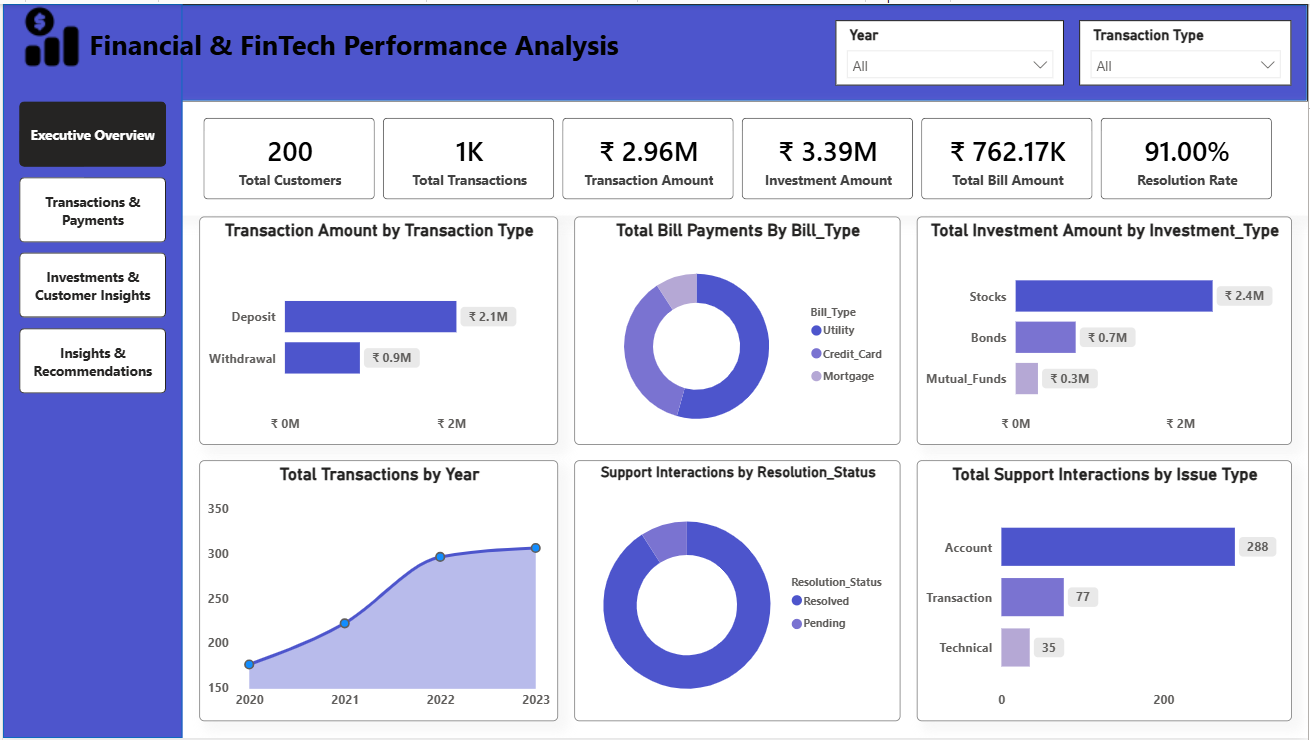

Layout of this report page (visuals, bound fields, positions):
{"tool":"powerbi","page":{"name":"Executive Overview","canvas":[1280,720],"ordinal":0},"visuals":[{"type":"shape","box":[0,0,1280,96],"z":1000},{"type":"cardVisual","fields":{"Data":["Measure_Table.Total Customers","Measure_Table.Total Transactions","Measure_Table.Total Transaction Amount","Measure_Table.Total Investment Amount","Measure_Table.Total Bill Amount","Measure_Table.Resolution Rate"]},"box":[160,96,1120,112],"z":2000},{"type":"barChart","title":"Transaction Amount by Transaction Type","fields":{"Y":["Measure_Table.Total Transaction Amount"],"Category":["fact_Transaction_ table.transaction_type"]},"box":[192,208,352,224],"z":3000},{"type":"areaChart","fields":{"Category":["Dim_Date.Year"],"Y":["Measure_Table.Total Transactions"]},"box":[192,448,352,256],"z":4000},{"type":"barChart","title":"Total Investment Amount by Investment_Type","fields":{"Y":["Measure_Table.Total Investment Amount"],"Category":["fact_Investments.investment_type"]},"box":[896,208,368,224],"z":5000},{"type":"donutChart","title":"Total Bill Payments  By Bill_Type","fields":{"Y":["Measure_Table.Total Bill Payments"],"Category":["Fact_bill_payments.bill_type"]},"box":[560,208,320,224],"z":6000},{"type":"barChart","title":"Total Support Interactions by Issue Type","fields":{"Category":["Fact_customer_support.issue_type"],"Y":["Measure_Table.Total Support Interactions"]},"box":[896,448,368,256],"z":7000},{"type":"donutChart","title":"Support Interactions by Resolution_Status","fields":{"Y":["Measure_Table.Total Support Interactions"],"Category":["Fact_customer_support.resolution_status"]},"box":[560,448,320,256],"z":8000},{"type":"shape","box":[0,0,176,720],"z":9000},{"type":"slicer","fields":{"Values":["Dim_Date.Year"]},"box":[816,16,224,64],"z":10000},{"type":"slicer","fields":{"Values":["fact_Transaction_ table.transaction_type"]},"box":[1056,16,208,64],"z":11000},{"type":"textbox","box":[80,16,592,64],"z":12000},{"type":"pageNavigator","box":[16,96,144,288],"z":13000},{"type":"image","box":[0,0,96,64],"z":14000}]}

Visuals, with their boxes in screenshot pixels (x1, y1, x2, y2), scaled from the page's 1280x720 canvas onto the 1310x740 screenshot:
shape: Rect(0, 0, 1309, 99)
cardVisual - Measure_Table.Total Customers x Measure_Table.Total Transactions: Rect(164, 99, 1309, 214)
"Transaction Amount by Transaction Type" barChart: Rect(196, 214, 557, 444)
areaChart - Dim_Date.Year x Measure_Table.Total Transactions: Rect(196, 460, 557, 724)
"Total Investment Amount by Investment_Type" barChart: Rect(917, 214, 1294, 444)
"Total Bill Payments  By Bill_Type" donutChart: Rect(573, 214, 901, 444)
"Total Support Interactions by Issue Type" barChart: Rect(917, 460, 1294, 724)
"Support Interactions by Resolution_Status" donutChart: Rect(573, 460, 901, 724)
shape: Rect(0, 0, 180, 739)
slicer - Dim_Date.Year: Rect(835, 16, 1064, 82)
slicer - fact_Transaction_ table.transaction_type: Rect(1081, 16, 1294, 82)
textbox: Rect(82, 16, 688, 82)
pageNavigator: Rect(16, 99, 164, 395)
image: Rect(0, 0, 98, 66)
